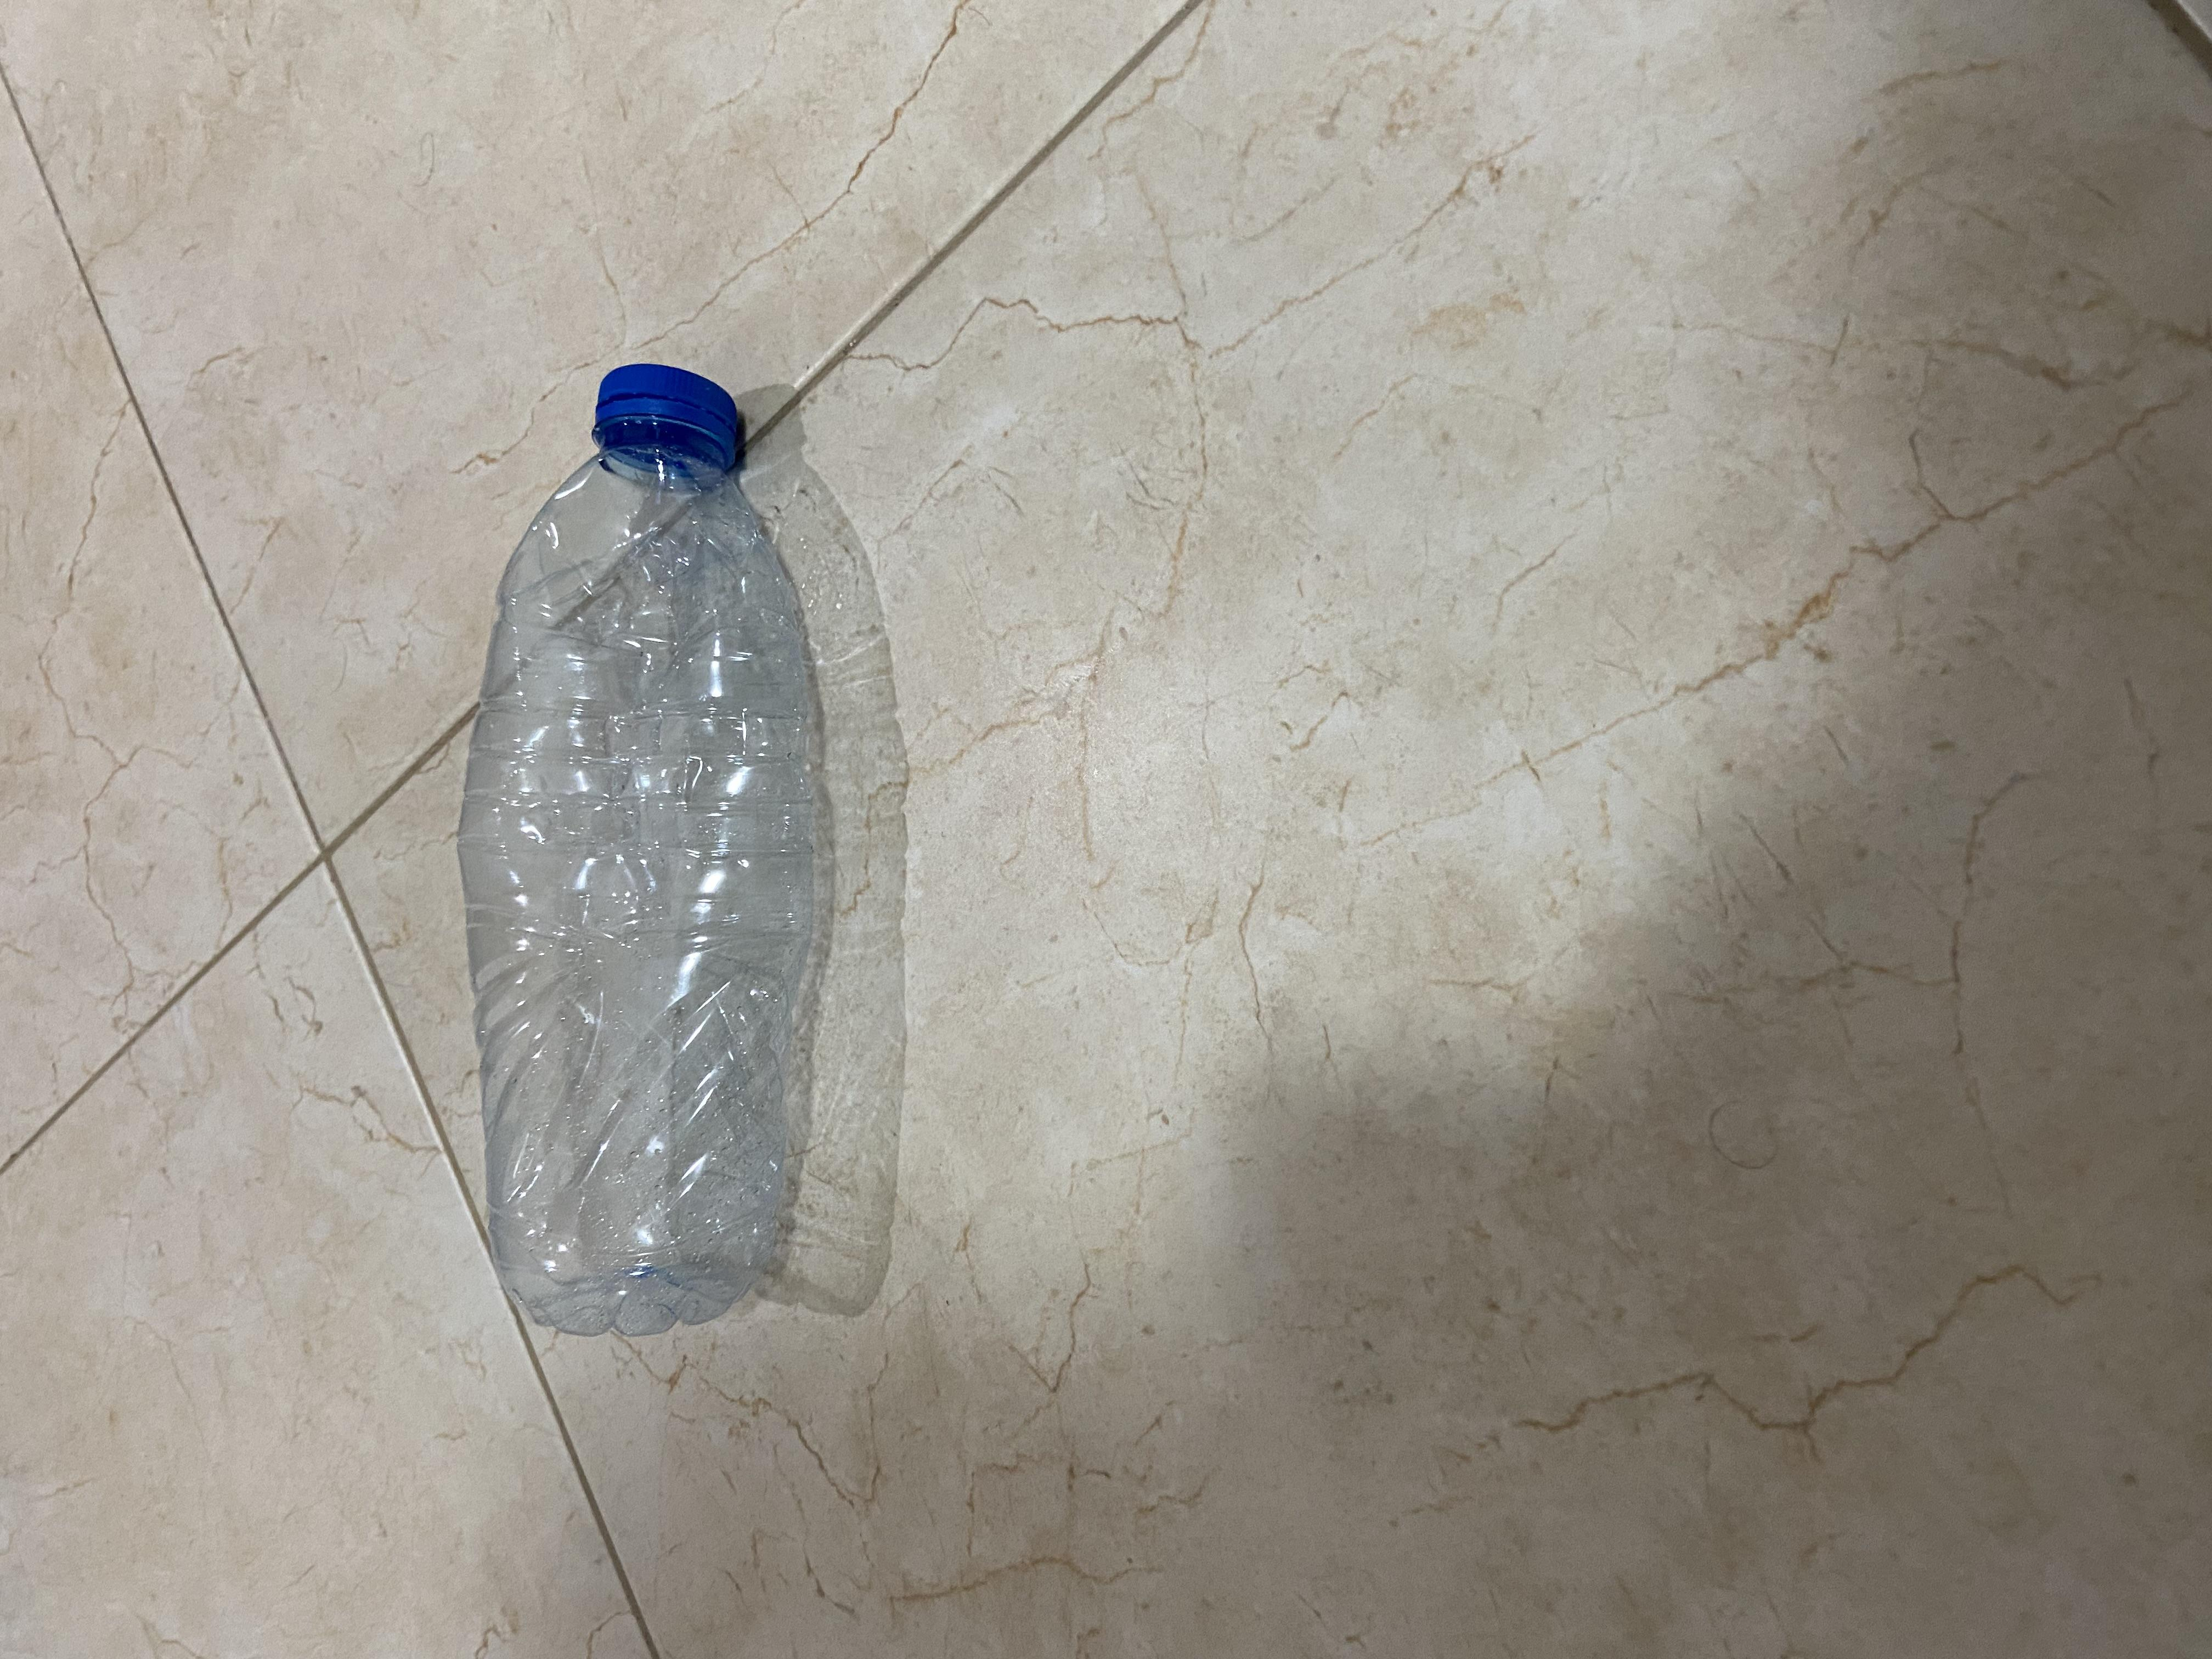bottle: (354, 338, 1759, 634)
